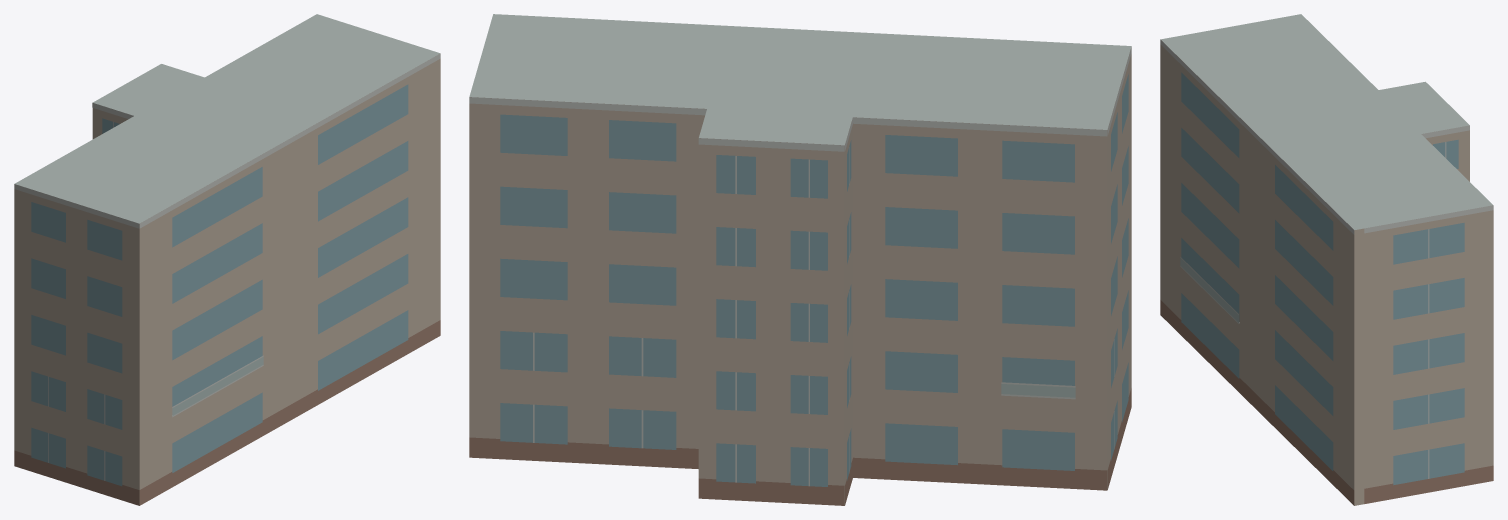
The model's file is survey-upis-32624120.glb.
3 renders of one model, left to right at view 1: azimuth 30°, elevation 25°; view 2: azimuth 150°, elevation 25°; view 3: azimuth 270°, elevation 25°, orthographic. The views are drawn at different scales.
Parts seen in each view (by area): view 1: survey-upis-32624120.tmp; view 2: survey-upis-32624120.tmp; view 3: survey-upis-32624120.tmp.
Boxes of the visible parts, left/top/right/bottom form: survey-upis-32624120.tmp: left=14, top=14, right=440, bottom=505; survey-upis-32624120.tmp: left=469, top=14, right=1131, bottom=505; survey-upis-32624120.tmp: left=1160, top=14, right=1493, bottom=505.
Size of the model in its own units: 22.71 by 13.5 by 14.79.
